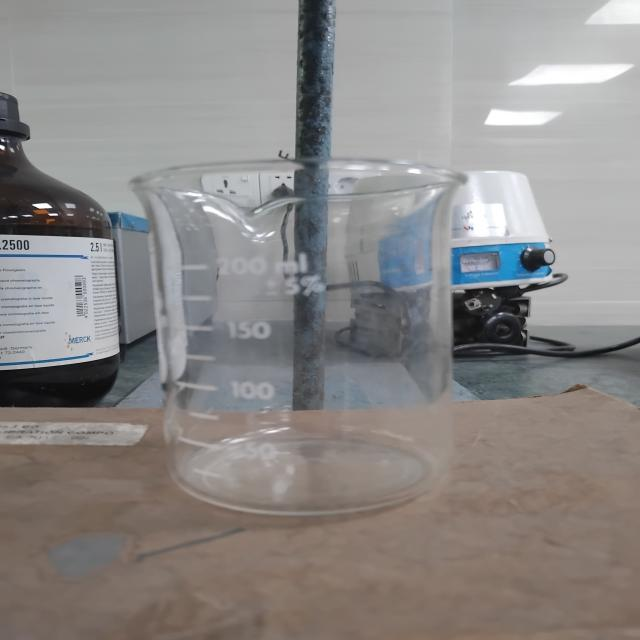Beaker: (117, 127, 505, 542)
